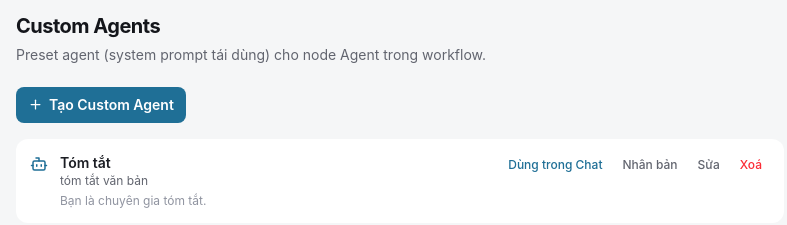
Scenario: xoá: confirm true → DELETE đúng id, hàng biến mất
The image size is (787, 225).
Click the button "Xoá": (751, 165) [732,153,770,177]
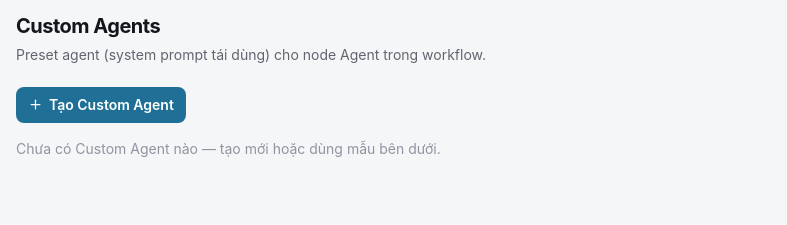
Now the text "Tóm tắt" is gone
